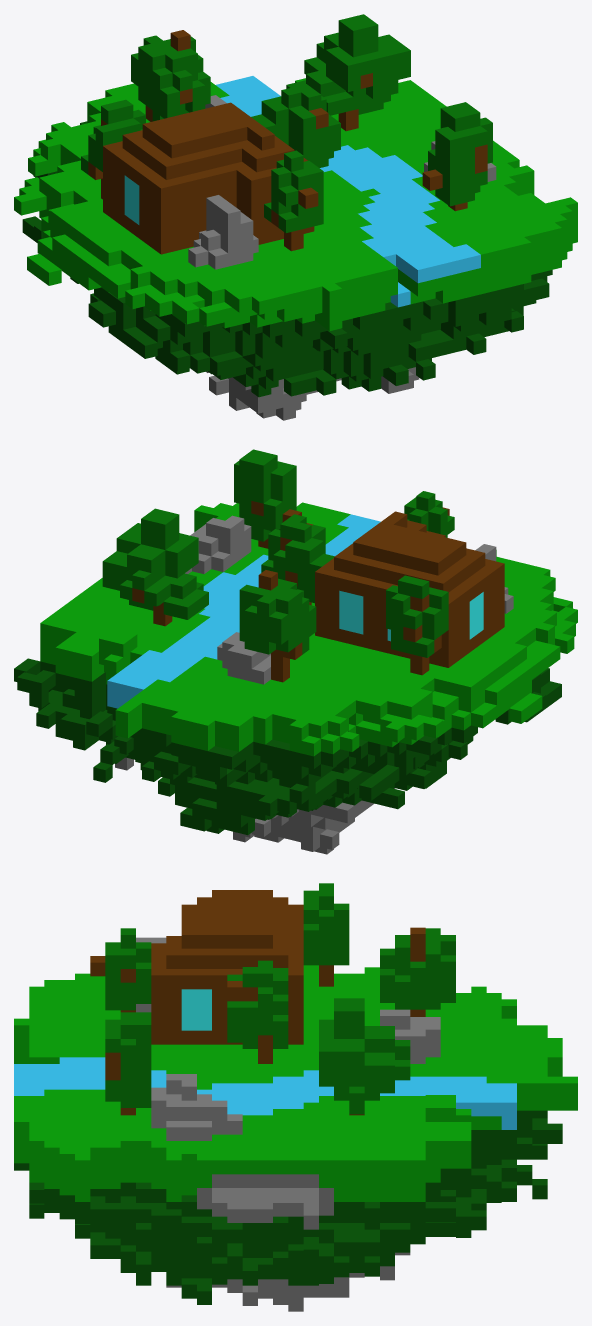
File: goodddd.gltf
The picture shows the model from 3 angles, top to bottom: view 1: azimuth 30°, elevation 25°; view 2: azimuth 150°, elevation 25°; view 3: azimuth 270°, elevation 25°; orthographic projection. The views are drawn at different scales.
Parts seen in each view (by area): view 1: Untitled; view 2: Untitled; view 3: Untitled.
Part boxes in pixels (left/top/right/bottom): Untitled: left=14, top=14, right=577, bottom=420; Untitled: left=14, top=449, right=577, bottom=854; Untitled: left=14, top=883, right=577, bottom=1311.
Size of the model in its own units: 3.8 by 2.5 by 3.7.
Materials: 2 (1 with a texture image).
